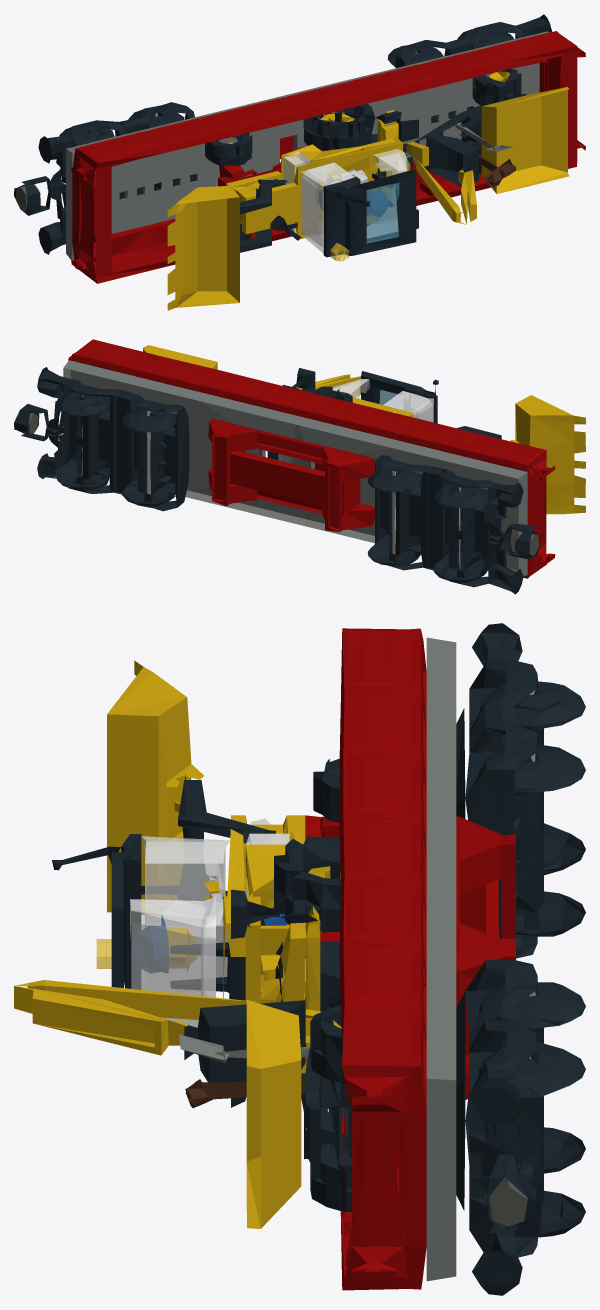
Rendered from railroad-tractor-flatbed.glb.
The picture shows the model from 3 angles, top to bottom: view 1: azimuth 30°, elevation 25°; view 2: azimuth 150°, elevation 25°; view 3: azimuth 270°, elevation 25°; orthographic projection. The views are drawn at different scales.
Size of the model in its own units: 251 by 54.02 by 123.
